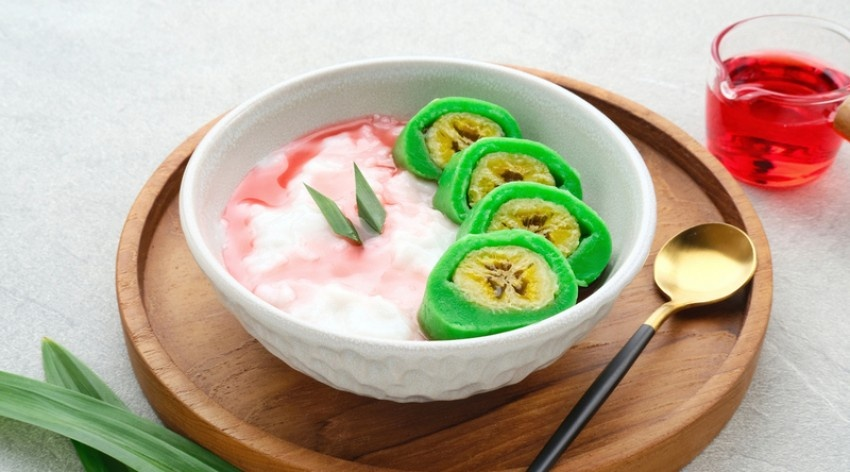pisang_ijo: (417, 226, 557, 338)
